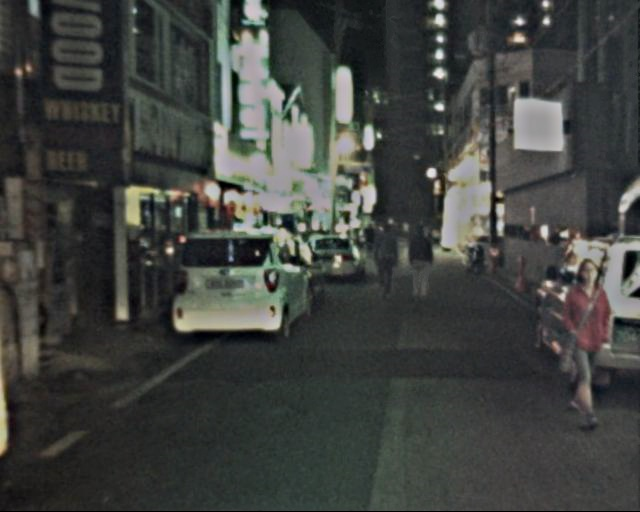person: (546, 262, 622, 425), (371, 225, 404, 300), (406, 226, 437, 297)
